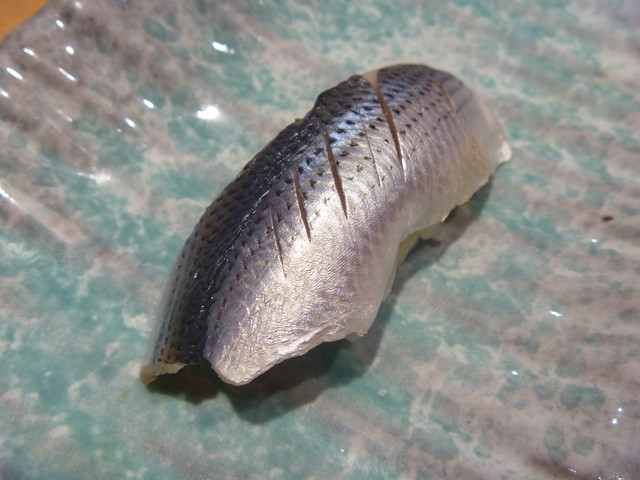spotted-shad: (138, 59, 513, 403)
